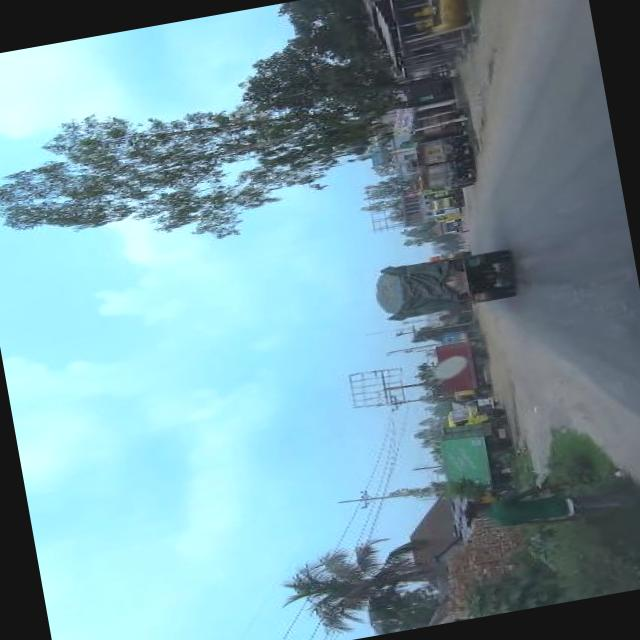bus: (429, 208, 457, 216), (432, 214, 458, 222)
truck: (365, 246, 514, 324), (434, 418, 514, 508), (431, 338, 492, 402), (412, 158, 472, 196), (406, 134, 466, 167), (442, 401, 504, 429), (430, 196, 461, 212), (426, 250, 467, 262), (460, 396, 495, 408)
